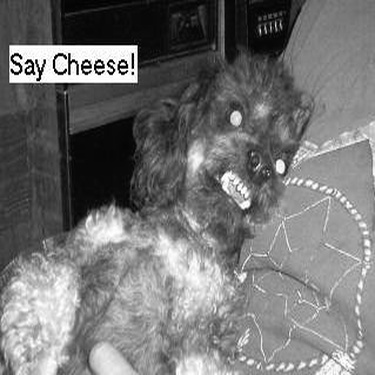dog: (9, 43, 320, 372)
